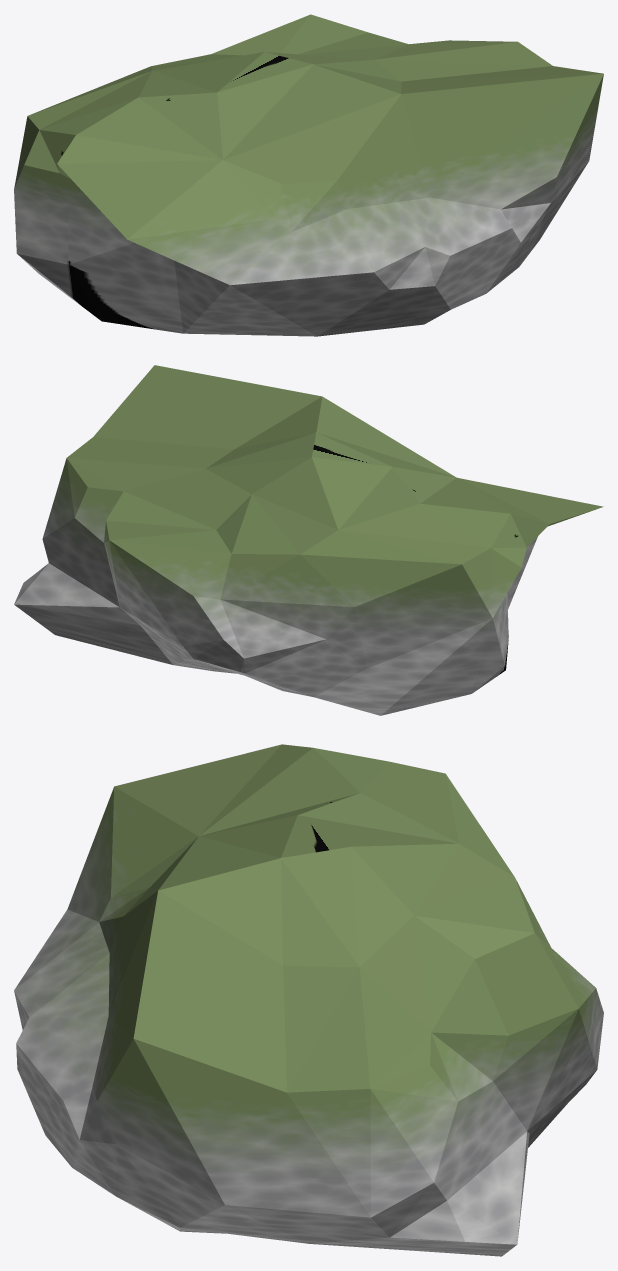
The model's file is 이끼바위_01.fbx.
3 renders of one model, top to bottom at view 1: azimuth 30°, elevation 25°; view 2: azimuth 150°, elevation 25°; view 3: azimuth 270°, elevation 25°, orthographic. The views are drawn at different scales.
Parts seen in each view (by area): view 1: 이끼바위_01; view 2: 이끼바위_01; view 3: 이끼바위_01.
Part boxes in pixels (x1,y1,x2,y2): 이끼바위_01: (14, 14, 603, 336); 이끼바위_01: (14, 365, 603, 715); 이끼바위_01: (14, 744, 603, 1256).
Bounding box in the file's own units: 1329 × 512 × 1010.
1 material, 1 textured.
